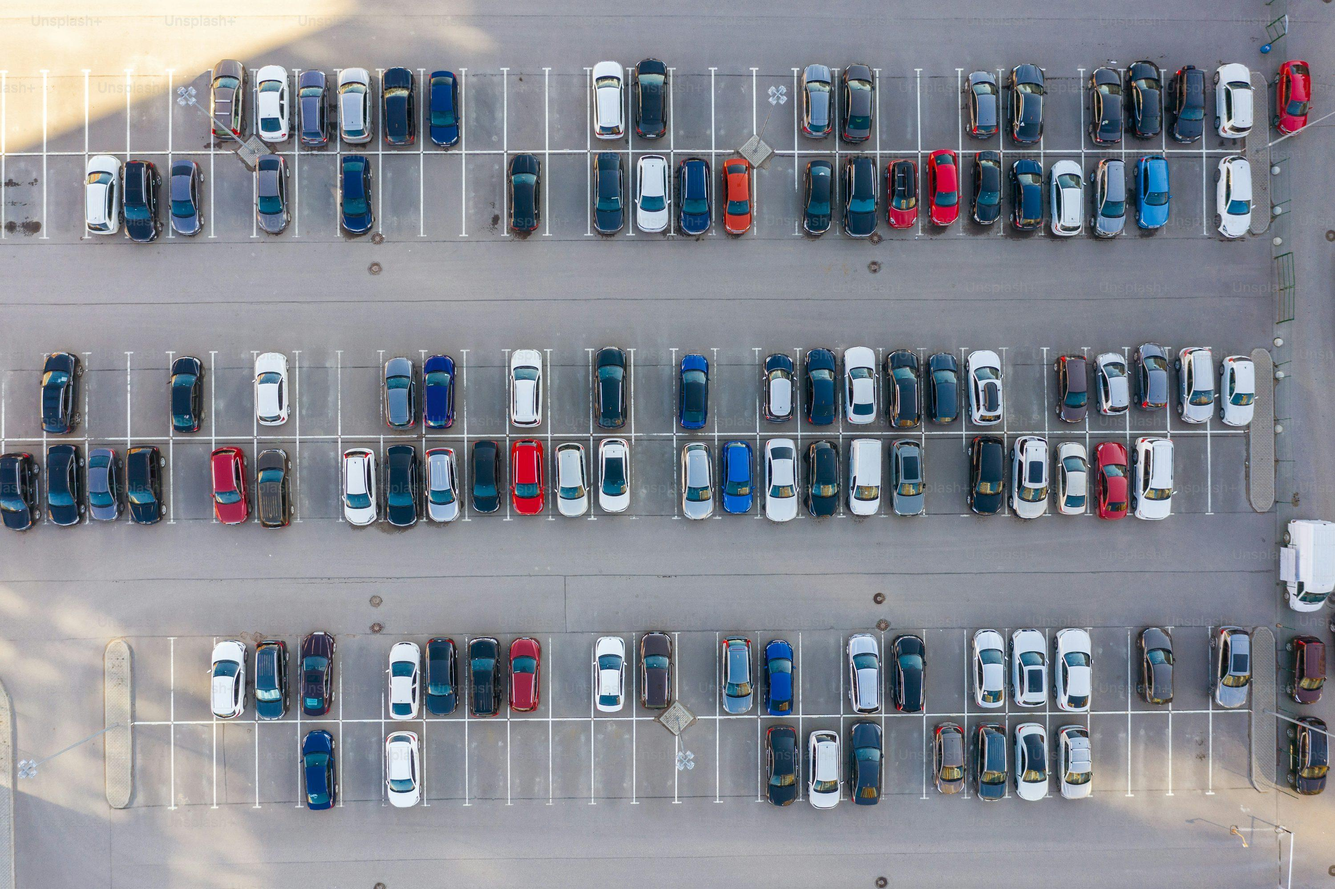available space: (322, 699, 396, 803), (670, 619, 729, 720), (283, 353, 340, 442), (635, 340, 688, 434), (755, 151, 805, 247), (37, 151, 88, 243), (670, 61, 722, 150), (641, 706, 684, 810), (83, 67, 137, 149), (543, 65, 593, 148), (878, 721, 928, 803), (706, 343, 754, 427), (589, 724, 635, 811), (1038, 80, 1094, 150), (426, 141, 466, 239), (629, 438, 676, 520), (329, 644, 381, 716), (802, 626, 846, 711), (537, 365, 598, 426), (455, 341, 503, 418), (303, 151, 344, 241), (1178, 650, 1225, 728), (754, 62, 796, 149), (469, 68, 510, 154), (126, 64, 166, 152), (467, 156, 511, 235), (506, 68, 548, 150), (706, 65, 749, 144), (540, 157, 585, 232), (1225, 730, 1260, 826), (217, 151, 254, 241), (47, 77, 88, 158), (920, 80, 965, 152), (381, 157, 420, 240), (550, 718, 590, 798), (1108, 715, 1155, 783), (424, 721, 466, 795), (880, 71, 916, 156), (297, 458, 338, 531), (171, 435, 208, 513), (1003, 353, 1041, 427), (171, 74, 212, 142), (340, 359, 377, 434), (1164, 427, 1202, 500), (479, 725, 511, 811), (172, 638, 216, 700), (83, 358, 119, 431), (1144, 718, 1176, 798), (693, 714, 723, 799), (932, 644, 971, 709), (552, 644, 592, 707), (203, 367, 253, 417), (1170, 166, 1201, 245), (1087, 629, 1126, 691), (264, 737, 296, 811), (135, 353, 164, 432), (181, 725, 212, 798), (927, 445, 963, 504), (131, 730, 164, 789), (224, 731, 247, 811), (525, 730, 548, 808), (731, 712, 751, 795), (1210, 439, 1235, 502)
free: (1, 73, 48, 156), (594, 638, 625, 713)
occupied: (1133, 437, 1176, 518), (1287, 716, 1331, 793), (40, 352, 80, 433), (1053, 628, 1093, 709), (1008, 436, 1047, 518), (0, 451, 40, 530), (210, 639, 249, 719), (126, 444, 165, 524), (1215, 155, 1253, 237), (1213, 628, 1252, 707), (1214, 62, 1254, 139), (1176, 345, 1216, 422), (1009, 628, 1048, 706), (1007, 64, 1045, 144), (122, 160, 159, 242), (85, 156, 122, 238), (210, 446, 248, 525), (1133, 154, 1172, 230), (1136, 625, 1174, 703), (1169, 65, 1207, 143), (1126, 60, 1163, 140), (968, 435, 1005, 515), (842, 157, 878, 239), (46, 444, 82, 526), (211, 59, 246, 142), (384, 443, 419, 526), (1091, 158, 1128, 236), (1274, 61, 1313, 135), (340, 447, 377, 525), (634, 154, 670, 234), (300, 632, 335, 714), (1048, 161, 1085, 237), (385, 730, 422, 806), (971, 629, 1006, 709), (634, 58, 668, 140), (764, 438, 798, 520), (1088, 68, 1124, 145), (1094, 442, 1130, 519), (302, 729, 337, 808), (842, 347, 877, 426), (339, 154, 373, 235), (256, 447, 290, 528), (254, 155, 289, 233), (1013, 721, 1048, 799), (254, 640, 289, 718), (255, 64, 290, 142), (805, 440, 840, 518), (592, 60, 626, 140), (509, 349, 543, 429), (382, 354, 417, 431), (86, 446, 121, 523), (424, 446, 459, 523), (840, 64, 874, 143), (846, 634, 880, 713), (807, 729, 841, 808), (766, 725, 799, 806), (254, 352, 289, 428), (508, 154, 540, 237), (848, 722, 880, 805), (169, 355, 203, 433), (388, 640, 422, 718), (1059, 726, 1095, 799), (1219, 354, 1256, 425), (510, 439, 544, 516), (890, 438, 924, 515), (337, 68, 371, 145), (848, 439, 882, 516), (382, 67, 415, 146), (425, 637, 458, 716), (593, 153, 625, 234), (1008, 157, 1043, 231), (677, 158, 710, 236), (639, 633, 672, 711), (967, 350, 1002, 423), (801, 64, 835, 139), (1289, 636, 1327, 703), (171, 160, 204, 237), (1135, 344, 1171, 414), (593, 348, 624, 429), (804, 348, 837, 424), (423, 353, 456, 429), (599, 437, 632, 513), (297, 69, 329, 147), (892, 634, 924, 712), (1055, 352, 1090, 423), (557, 443, 591, 516), (974, 723, 1006, 800), (467, 637, 499, 714), (1056, 441, 1089, 515), (888, 350, 920, 426), (722, 157, 753, 235), (721, 440, 753, 515), (428, 71, 459, 148), (679, 351, 710, 428), (720, 637, 751, 714), (681, 442, 712, 519), (509, 638, 541, 712), (764, 639, 795, 715), (802, 160, 833, 235), (762, 353, 795, 423), (1094, 351, 1129, 417), (926, 150, 956, 226), (933, 722, 964, 795), (970, 152, 1001, 225), (471, 441, 501, 516), (966, 71, 999, 139), (887, 159, 918, 231)
